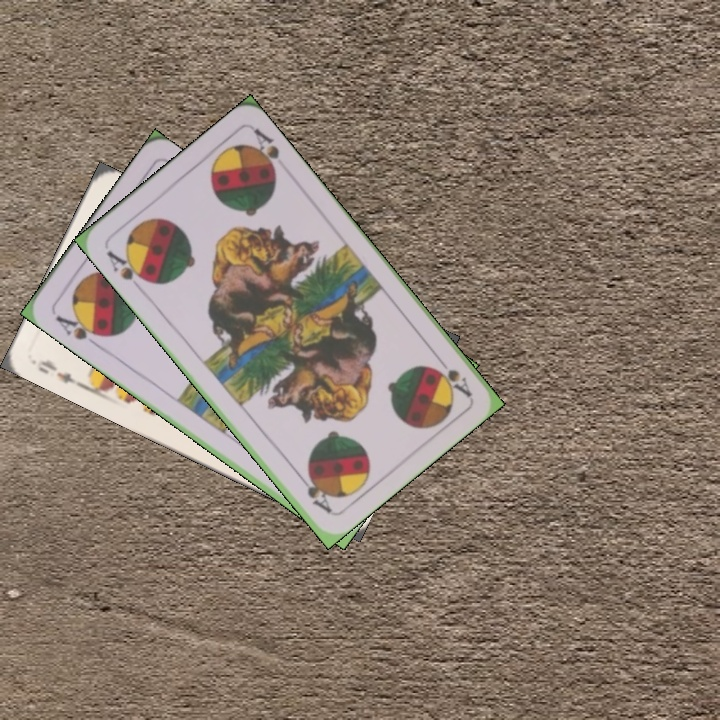E9: (29, 355, 85, 390)
SA: (102, 246, 152, 294), (51, 308, 107, 350), (428, 350, 475, 400)
